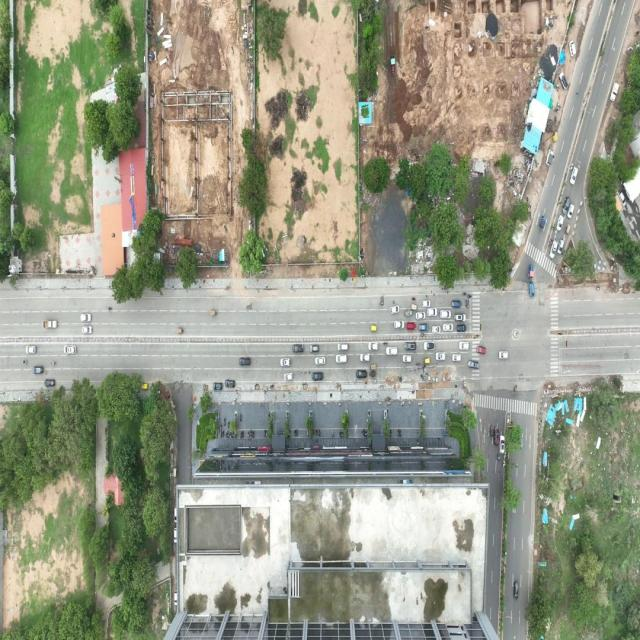3W: (538, 212, 545, 231), (404, 306, 412, 322), (370, 323, 378, 337), (422, 355, 432, 366), (409, 302, 419, 312), (175, 326, 185, 335), (209, 310, 219, 319)
Cars: (558, 70, 571, 97), (610, 76, 622, 105), (569, 158, 579, 192), (418, 336, 437, 352), (565, 37, 578, 60), (509, 577, 520, 603), (291, 341, 306, 357), (312, 368, 326, 384), (554, 208, 562, 236), (467, 357, 478, 376), (62, 342, 79, 354), (224, 377, 238, 391), (367, 339, 380, 354), (353, 367, 369, 379), (402, 341, 418, 353), (560, 193, 568, 216), (79, 311, 93, 324), (440, 322, 455, 334), (452, 311, 469, 321), (279, 355, 292, 368), (336, 340, 349, 353), (425, 307, 438, 320), (314, 355, 328, 367), (358, 351, 372, 363), (474, 344, 488, 356), (550, 237, 557, 260), (212, 380, 224, 393), (389, 303, 401, 316), (32, 365, 46, 376), (454, 323, 468, 334), (499, 431, 505, 456), (568, 197, 574, 222), (406, 320, 418, 332), (414, 309, 427, 320), (431, 323, 442, 336), (451, 297, 462, 310), (498, 349, 509, 362), (239, 357, 253, 367), (494, 424, 499, 451), (401, 353, 413, 364), (436, 351, 448, 362), (439, 309, 451, 320), (385, 346, 398, 356), (393, 320, 406, 330), (457, 341, 470, 351), (450, 353, 463, 363), (332, 354, 348, 362), (81, 326, 95, 335), (284, 372, 294, 384), (310, 344, 322, 354), (558, 236, 563, 258), (420, 298, 432, 306), (25, 346, 38, 353), (44, 379, 56, 386)
LCV: (41, 319, 59, 332)
M2W: (294, 427, 302, 444), (593, 283, 602, 297), (487, 420, 493, 440), (511, 380, 518, 395), (105, 303, 115, 313), (495, 451, 502, 464), (553, 262, 560, 274), (547, 236, 553, 249), (317, 428, 323, 440), (369, 362, 378, 370), (576, 84, 580, 102), (399, 427, 405, 438), (50, 360, 58, 368), (370, 371, 377, 380), (410, 295, 417, 304), (306, 424, 310, 439), (414, 361, 422, 368), (330, 429, 336, 438), (562, 245, 566, 258), (22, 357, 29, 364), (239, 413, 243, 424), (261, 429, 267, 436), (419, 332, 426, 338), (223, 417, 227, 427), (416, 437, 420, 447), (239, 428, 242, 440), (338, 430, 342, 439), (382, 340, 389, 345), (465, 304, 470, 311), (465, 300, 470, 307), (468, 293, 473, 300), (252, 430, 255, 441), (242, 429, 245, 438), (220, 424, 222, 436), (462, 293, 468, 297), (228, 419, 230, 430), (226, 431, 229, 437), (342, 429, 344, 438)
MAV: (523, 262, 539, 306)
